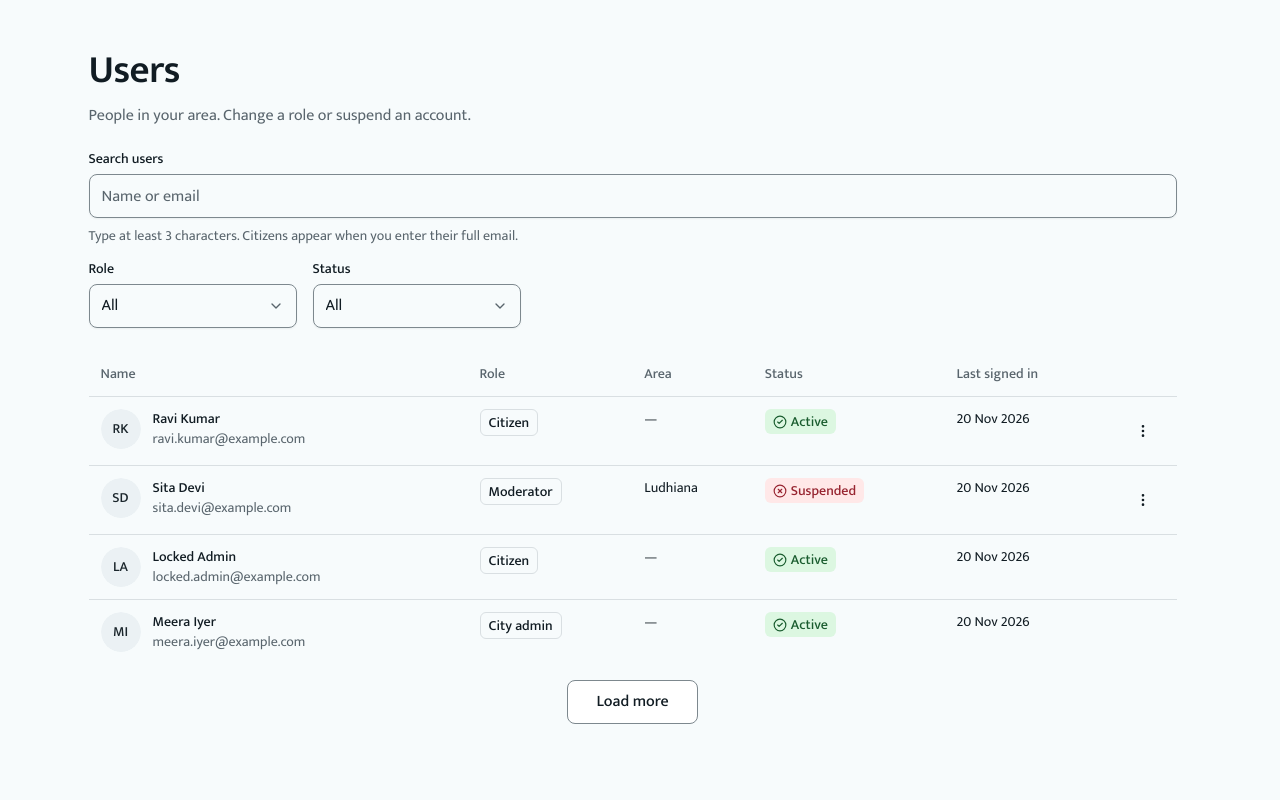
Admin Users › Load more fetches the next cursor, appends rows and announces them
Expected: the text "Ravi Kumar" is shown, [152, 407, 220, 430]
Click the button "Load more".
click(632, 702)  # box [567, 680, 698, 724]
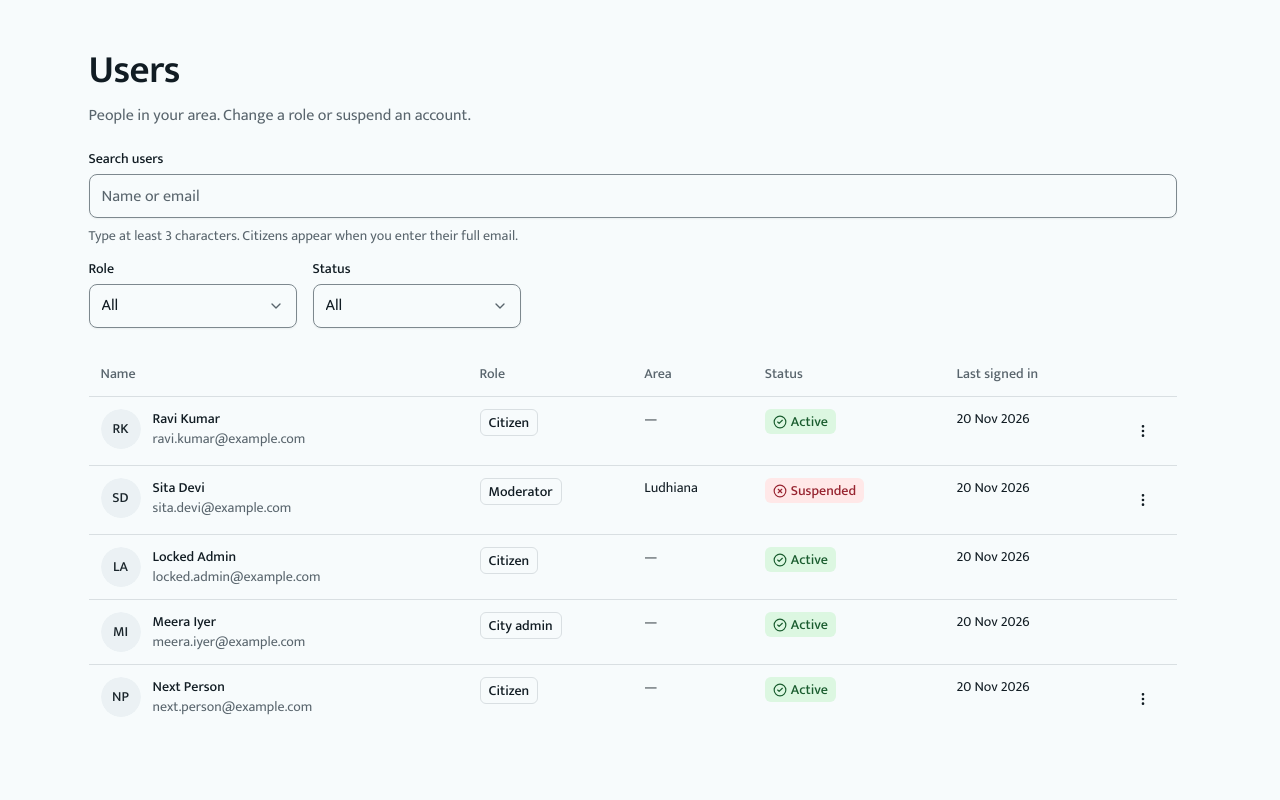
Expected: the text "Ravi Kumar" is shown, [152, 407, 220, 430]
Expected: the text "Next Person" is shown, [152, 675, 225, 698]
Expected: the button "Load more" is gone
